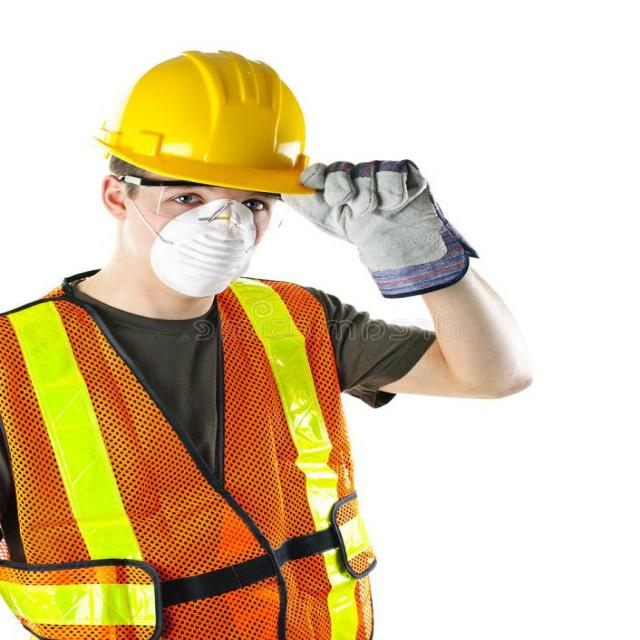Reflective-Jacket: (2, 268, 377, 640)
Safety-Helmet: (87, 45, 318, 197)
